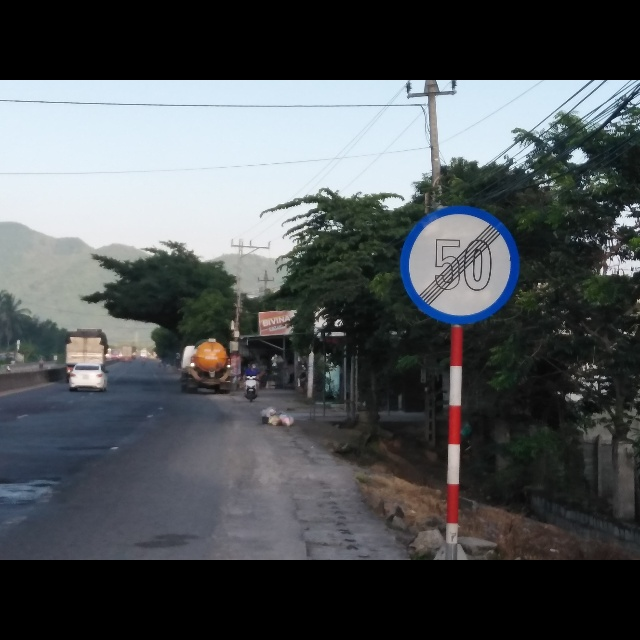Hết hạn chế tốc độ tối đa 50km/h: (399, 207, 520, 329)
